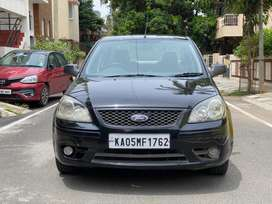KA05MF1762: (108, 133, 170, 148)
